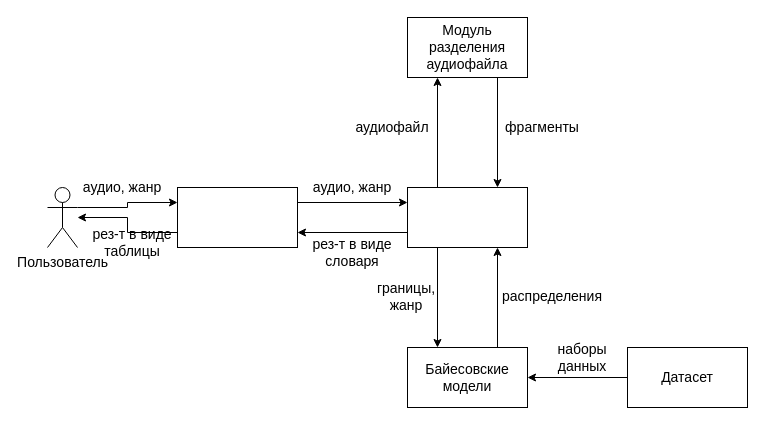
Image size: 765x425. Some labels were removed from this diagram. Each missing label, with the box of its shape:
Интерфейс: (176, 186, 298, 248)
Модуль оценки темпа и ритма: (406, 186, 528, 248)
